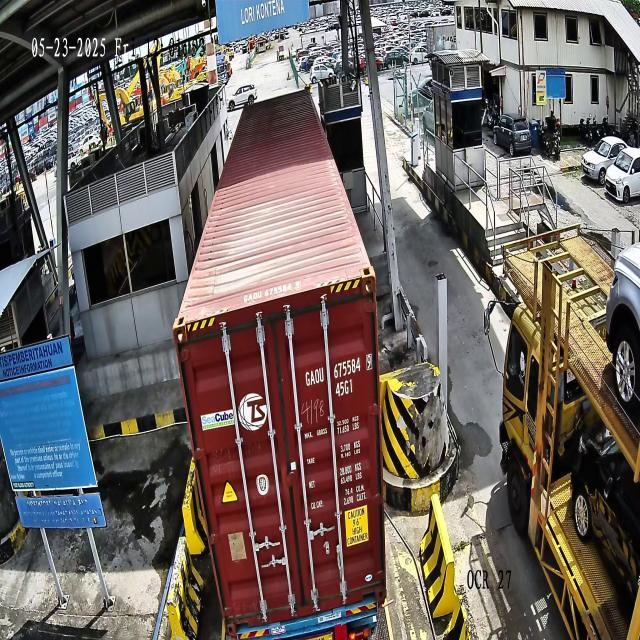ISO: (335, 377, 353, 397)
container_number: (305, 352, 373, 387)
